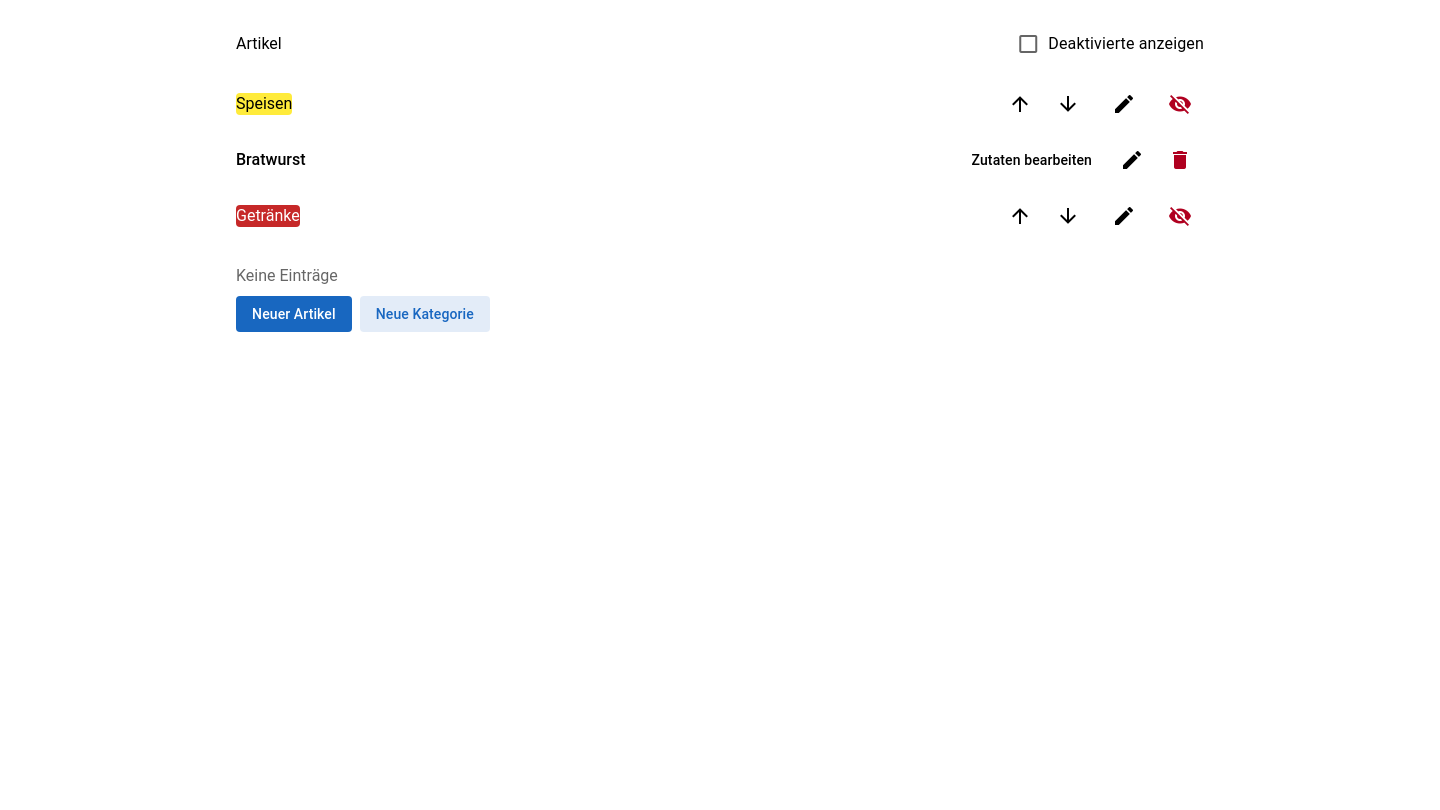
it: adding a category from the item list › asks for the category in a dialog
The image size is (1440, 810).
Click the button with test id "new-category" at (425, 314), box [360,296,490,332]
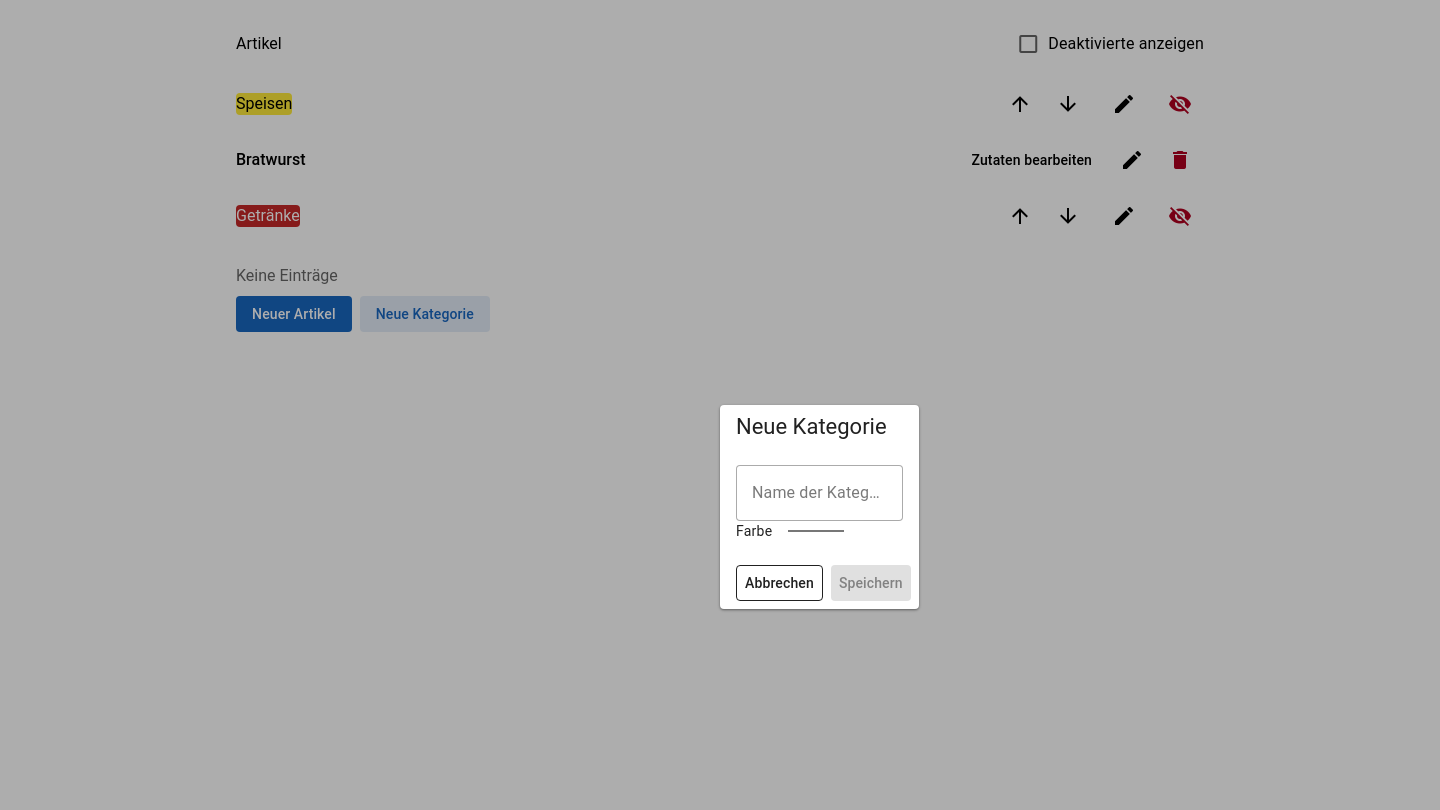
Result: the element with test id "form-dialog" is shown at [720,405,919,609]
